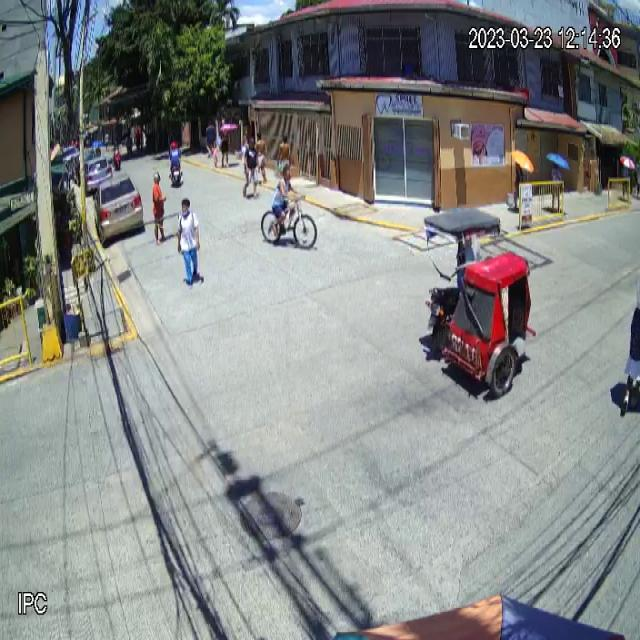Tricycle: (420, 202, 539, 400)
